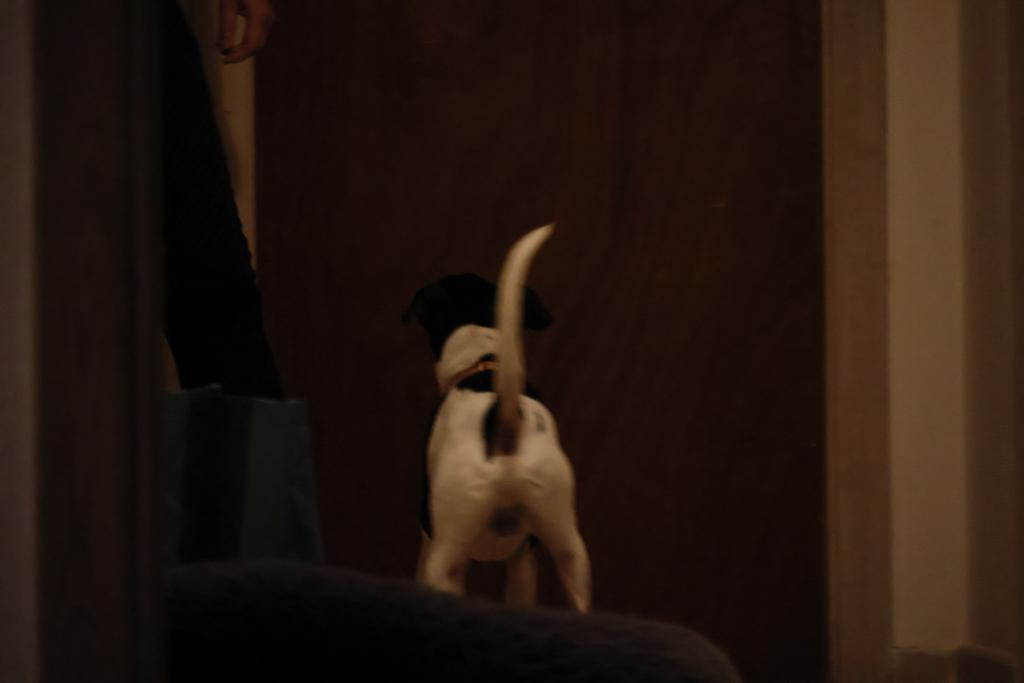Dog: (390, 216, 611, 621)
